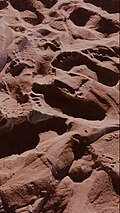human_foot_print: (23, 78, 107, 134), (47, 42, 120, 92), (64, 1, 120, 40), (8, 2, 46, 28)
